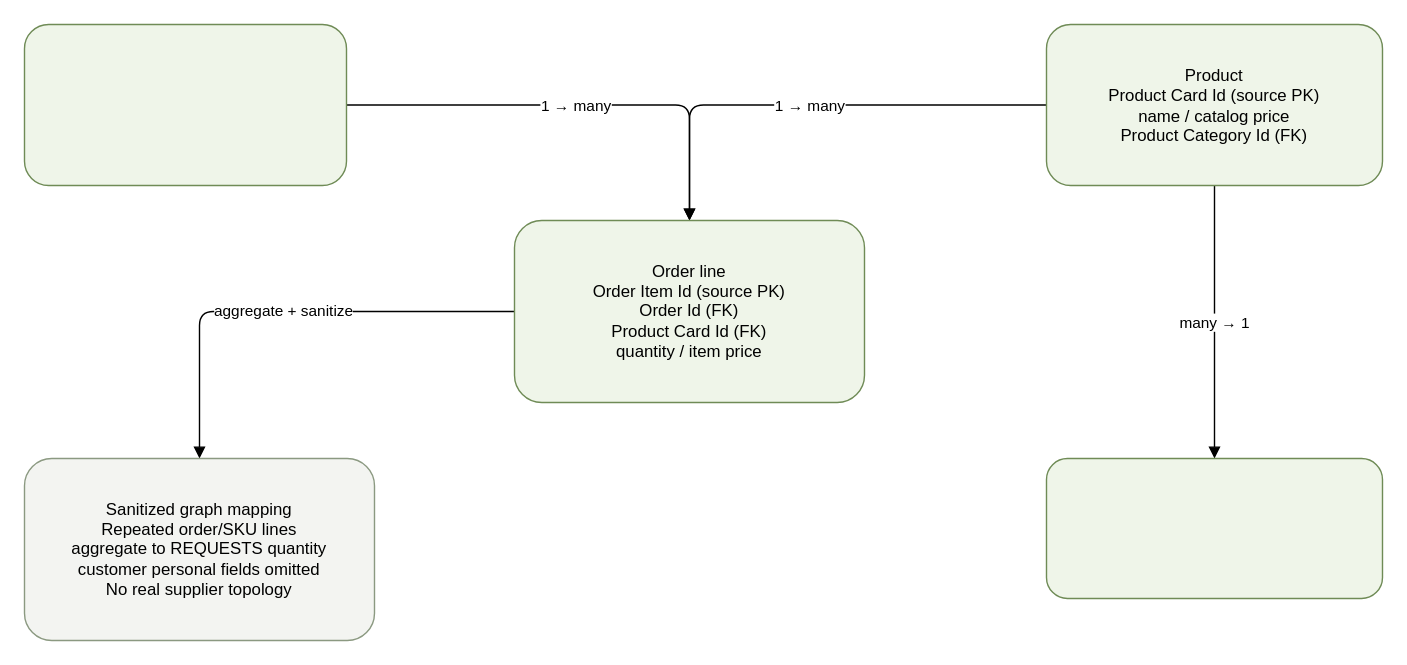
Some shapes in this 1407 by 665 pixel diagram are drawn without their labels. Here are the shapes that lost their labels. From the top down, the centre of each, then its label:
At [184,104]: "Order Order Id (source PK) order date shipping mode / durations".
At [1213,527]: "Category Category Id (source PK) Category Name".
